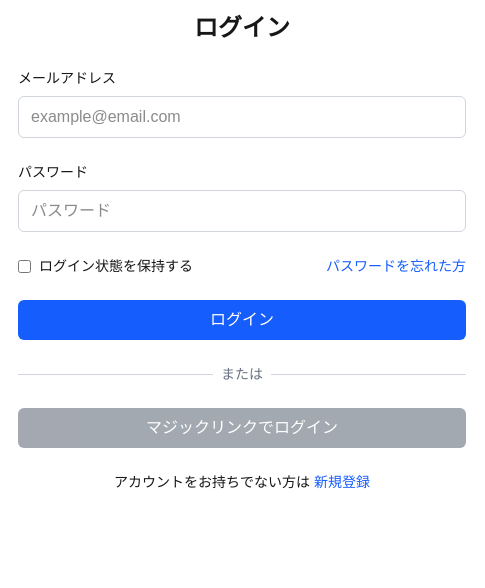
it: LoginForm › ログインエラーが表示されること
Type "test@example.com" into the field labelled "メールアドレス" at (242, 117), box [18,96,466,138]
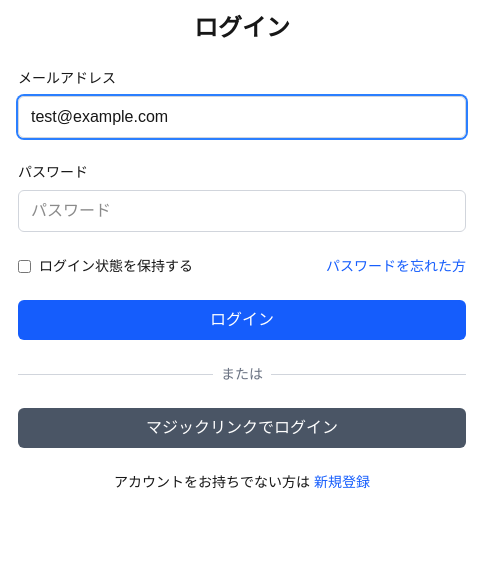
Type "wrongpassword" into the password field labelled "パスワード" at (242, 211), box [18,190,466,232]
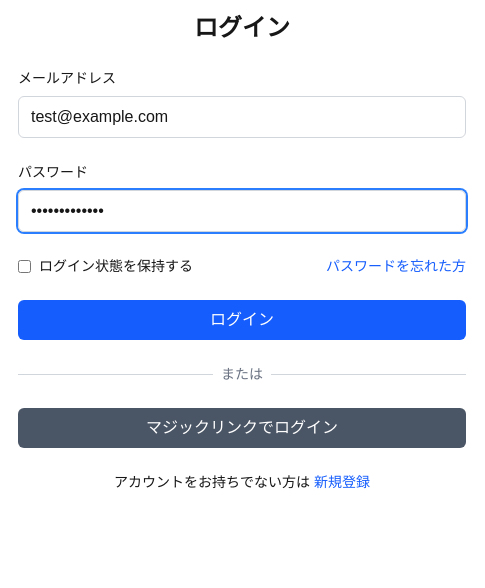
Click the button "ログイン" at (242, 320), box [18,300,466,340]
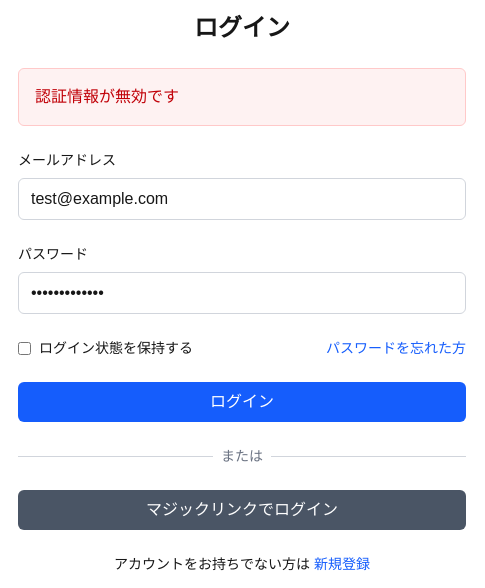
Expected: the text "認証情報が無効です" is shown, [18,68,466,126]
